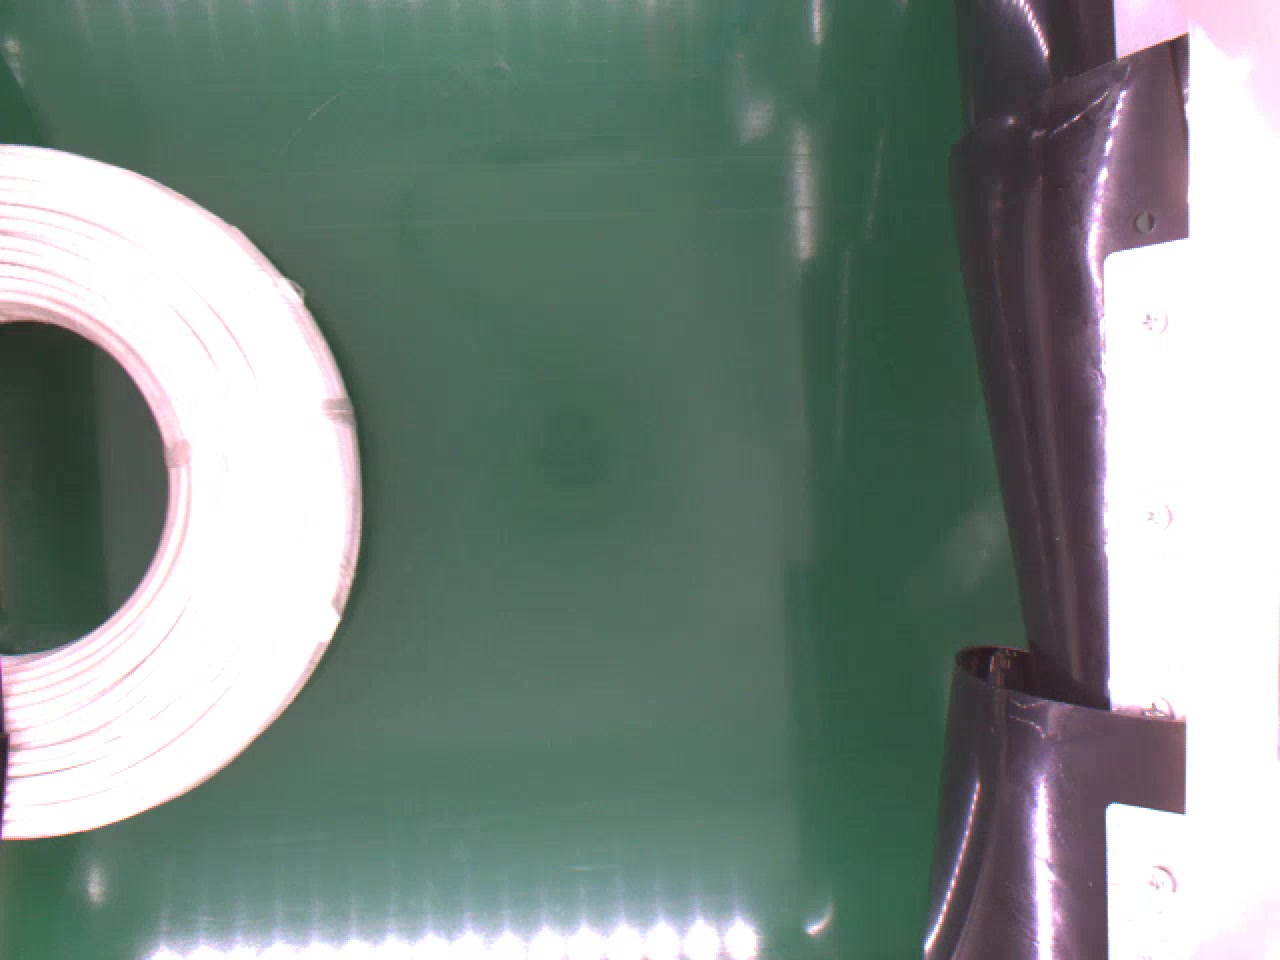white: (0, 142, 366, 841)
